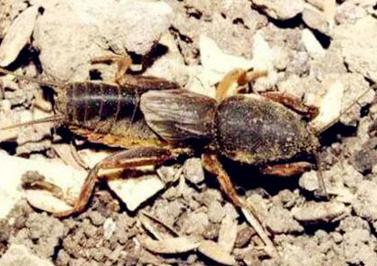pest: (60, 71, 319, 172)
